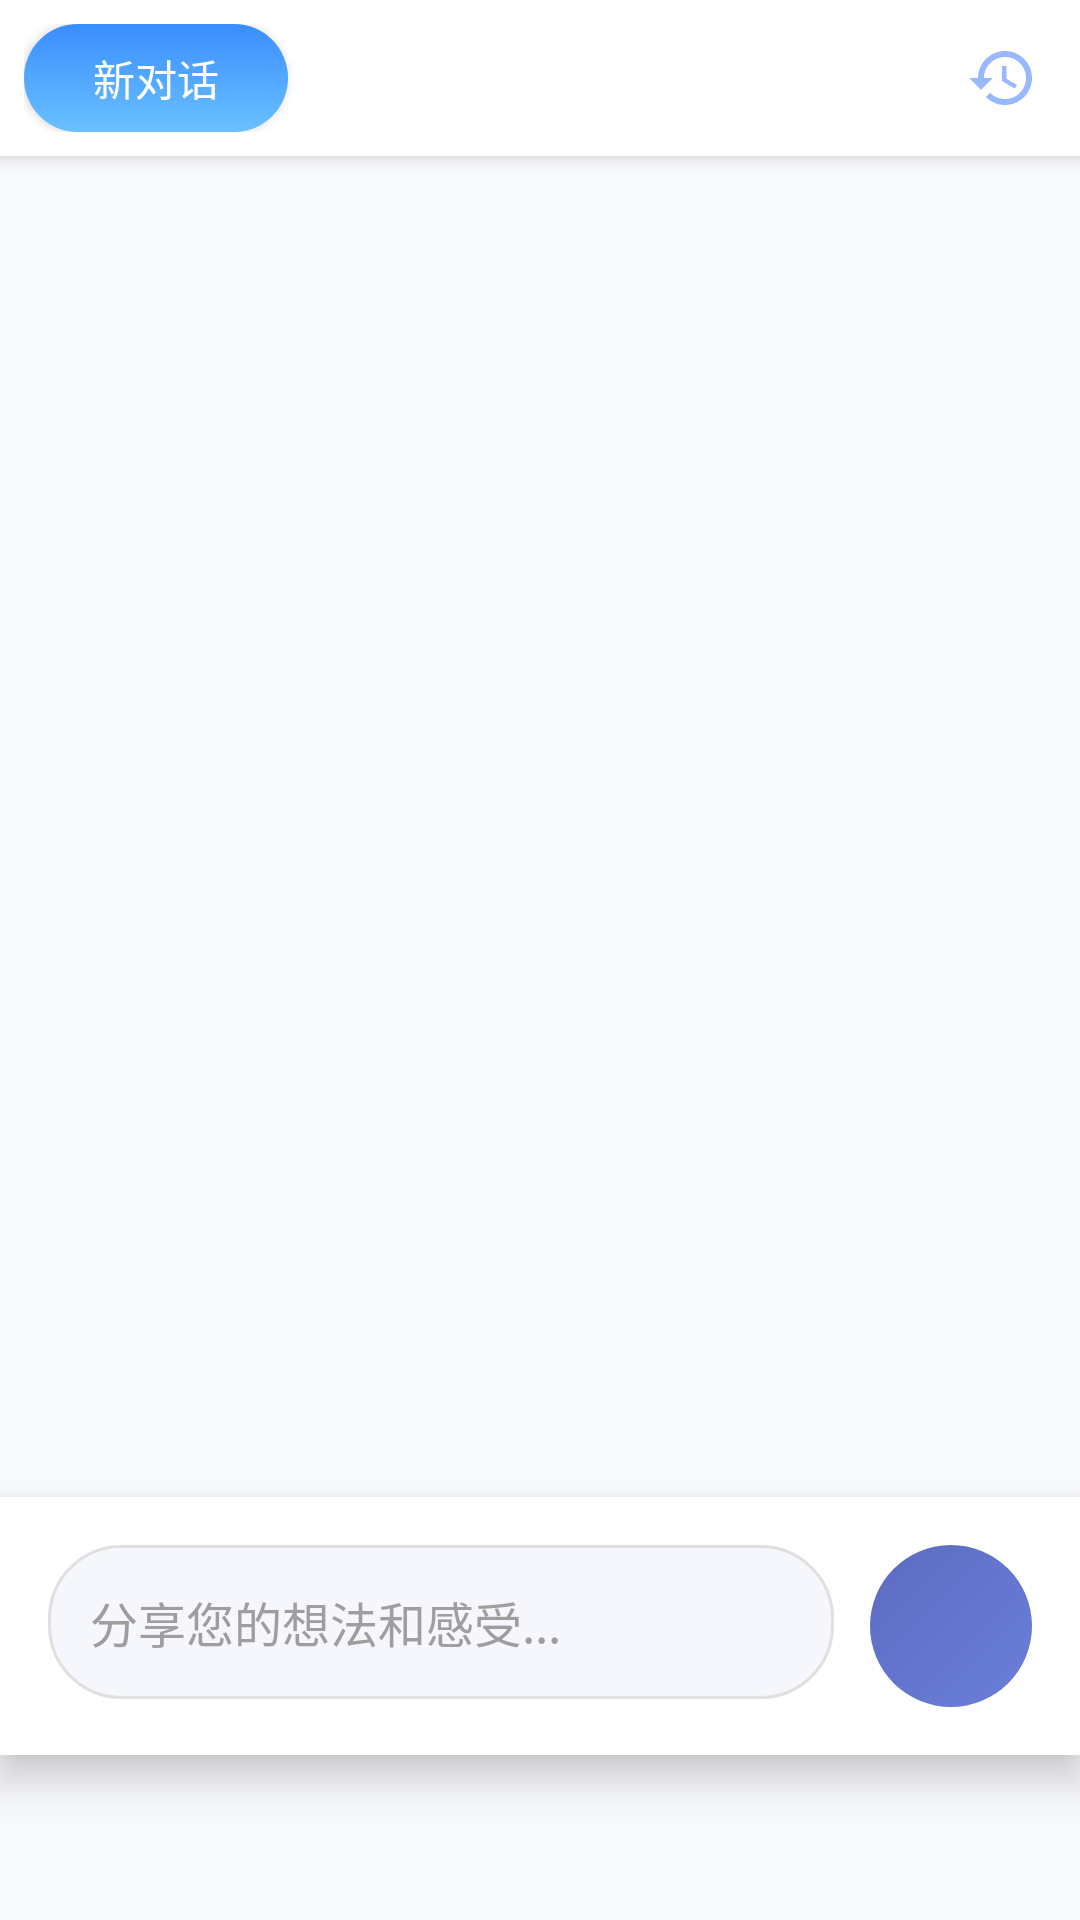

Screen size 1080×1920. Icon name, then its center in pixels as [x,y]:
历史记录: [1000,78]
